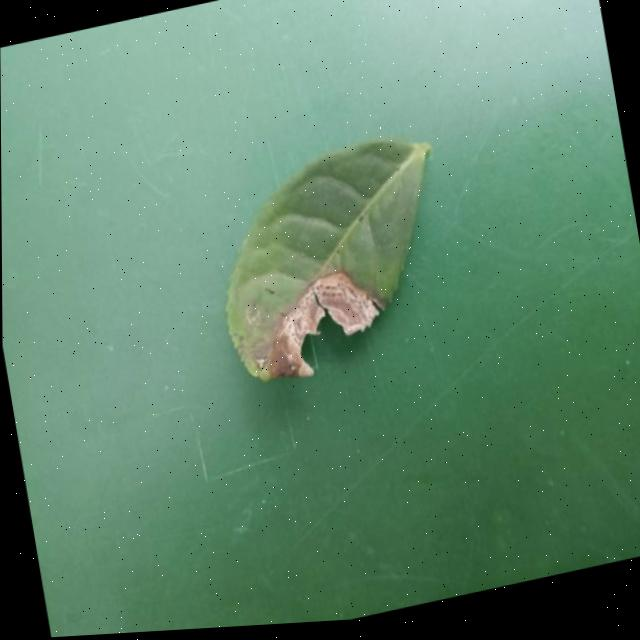Tea cloud leaf blight: (251, 261, 397, 390)
